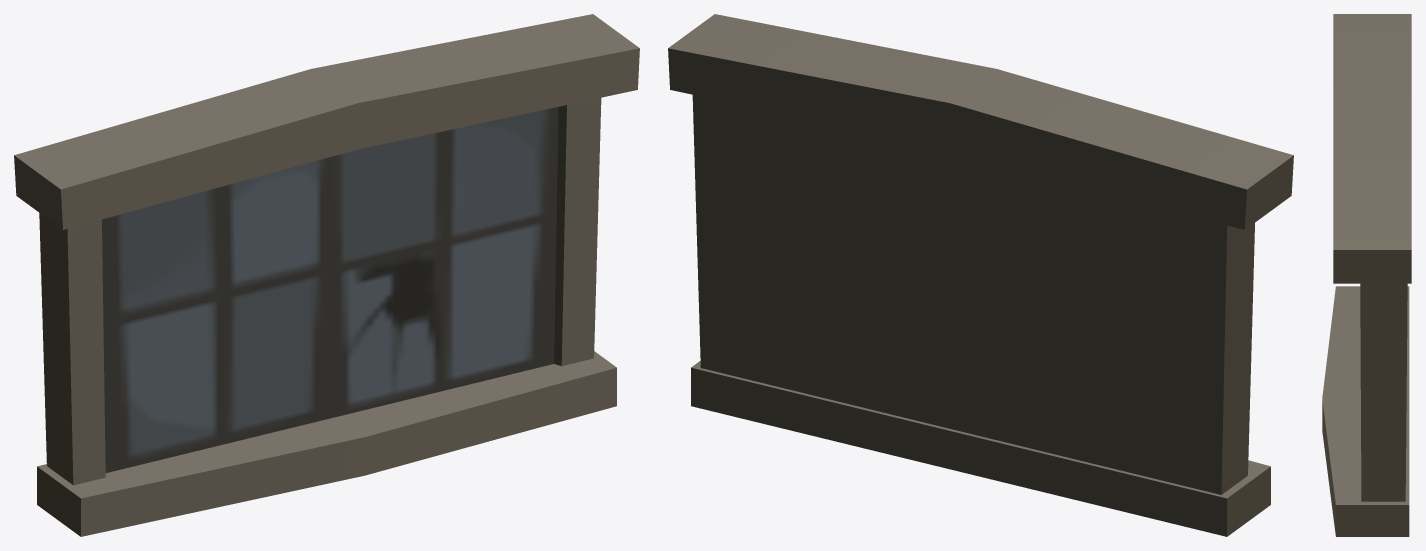
File: Window_C06.fbx
3 renders of one model, left to right at view 1: azimuth 30°, elevation 25°; view 2: azimuth 150°, elevation 25°; view 3: azimuth 270°, elevation 25°, orthographic. The views are drawn at different scales.
Visible parts, largest first — view 1: Window_C06; view 2: Window_C06; view 3: Window_C06.
Boxes of the visible parts, <box> form: Window_C06: <box>14,14,639,536</box>; Window_C06: <box>668,14,1293,536</box>; Window_C06: <box>1322,14,1411,536</box>.
Size of the model in its own units: 321 by 195 by 51.42.
